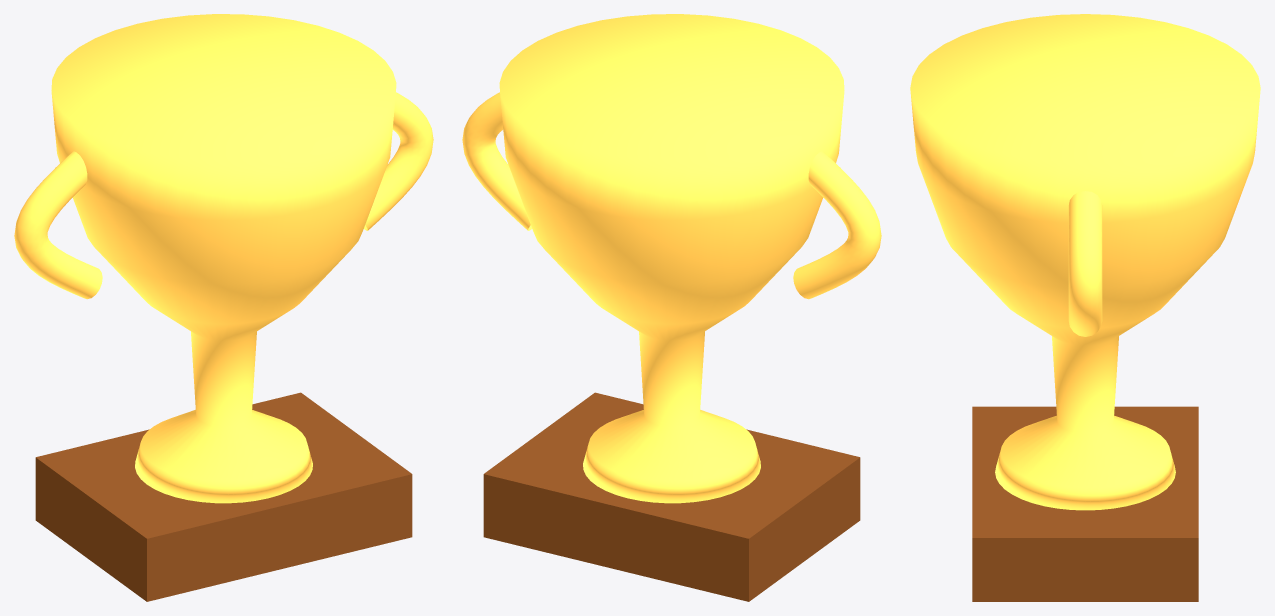
The model's file is trophy.glb.
3 renders of one model, left to right at view 1: azimuth 30°, elevation 25°; view 2: azimuth 150°, elevation 25°; view 3: azimuth 270°, elevation 25°, orthographic.
Parts seen in each view (by area): view 1: trophy; view 2: trophy; view 3: trophy.
Part boxes in pixels (left/top/right/bottom): trophy: left=14, top=14, right=433, bottom=601; trophy: left=462, top=14, right=881, bottom=601; trophy: left=910, top=14, right=1260, bottom=601.
Bounding box in the file's own units: 1.72 × 1.75 × 1.24.
